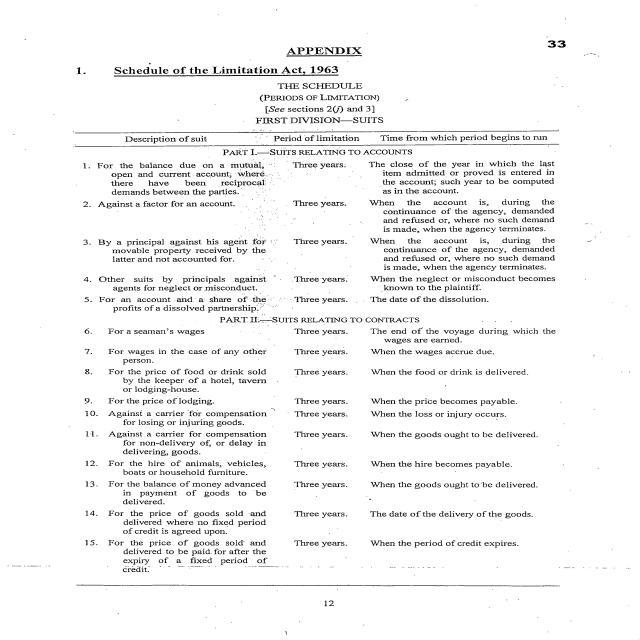page-number: (472, 0, 638, 50)
